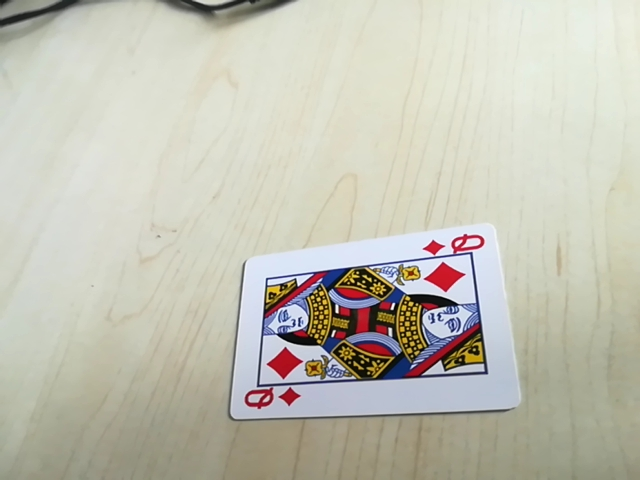fk q: (422, 228, 488, 260), (240, 384, 305, 414)
